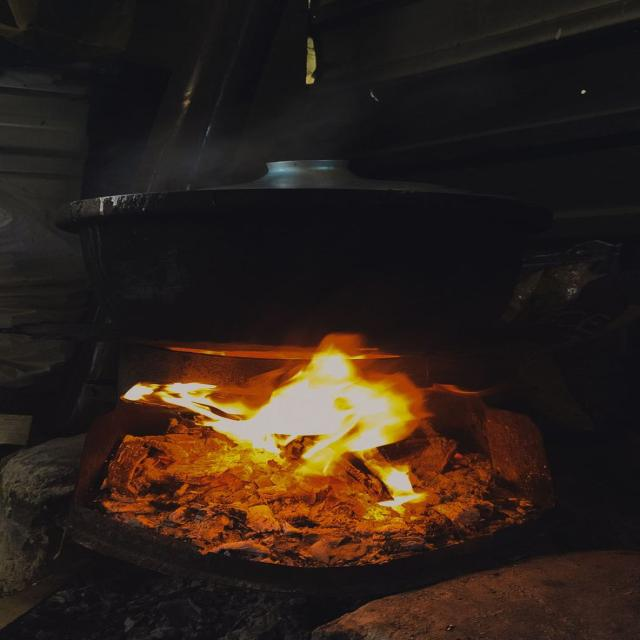fire: (156, 344, 415, 476), (373, 464, 426, 508)
